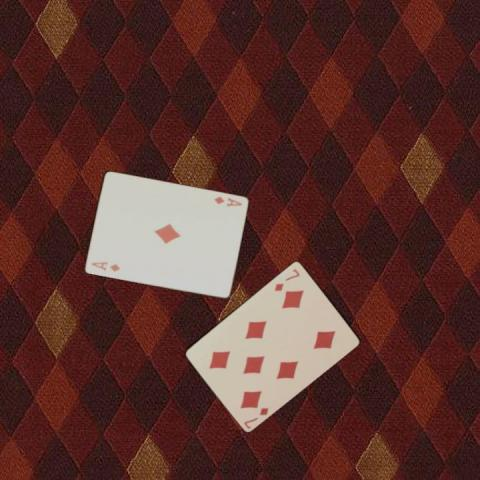7d: (272, 265, 302, 292), (241, 405, 270, 430)
Ad: (212, 193, 244, 208), (88, 259, 121, 273)
